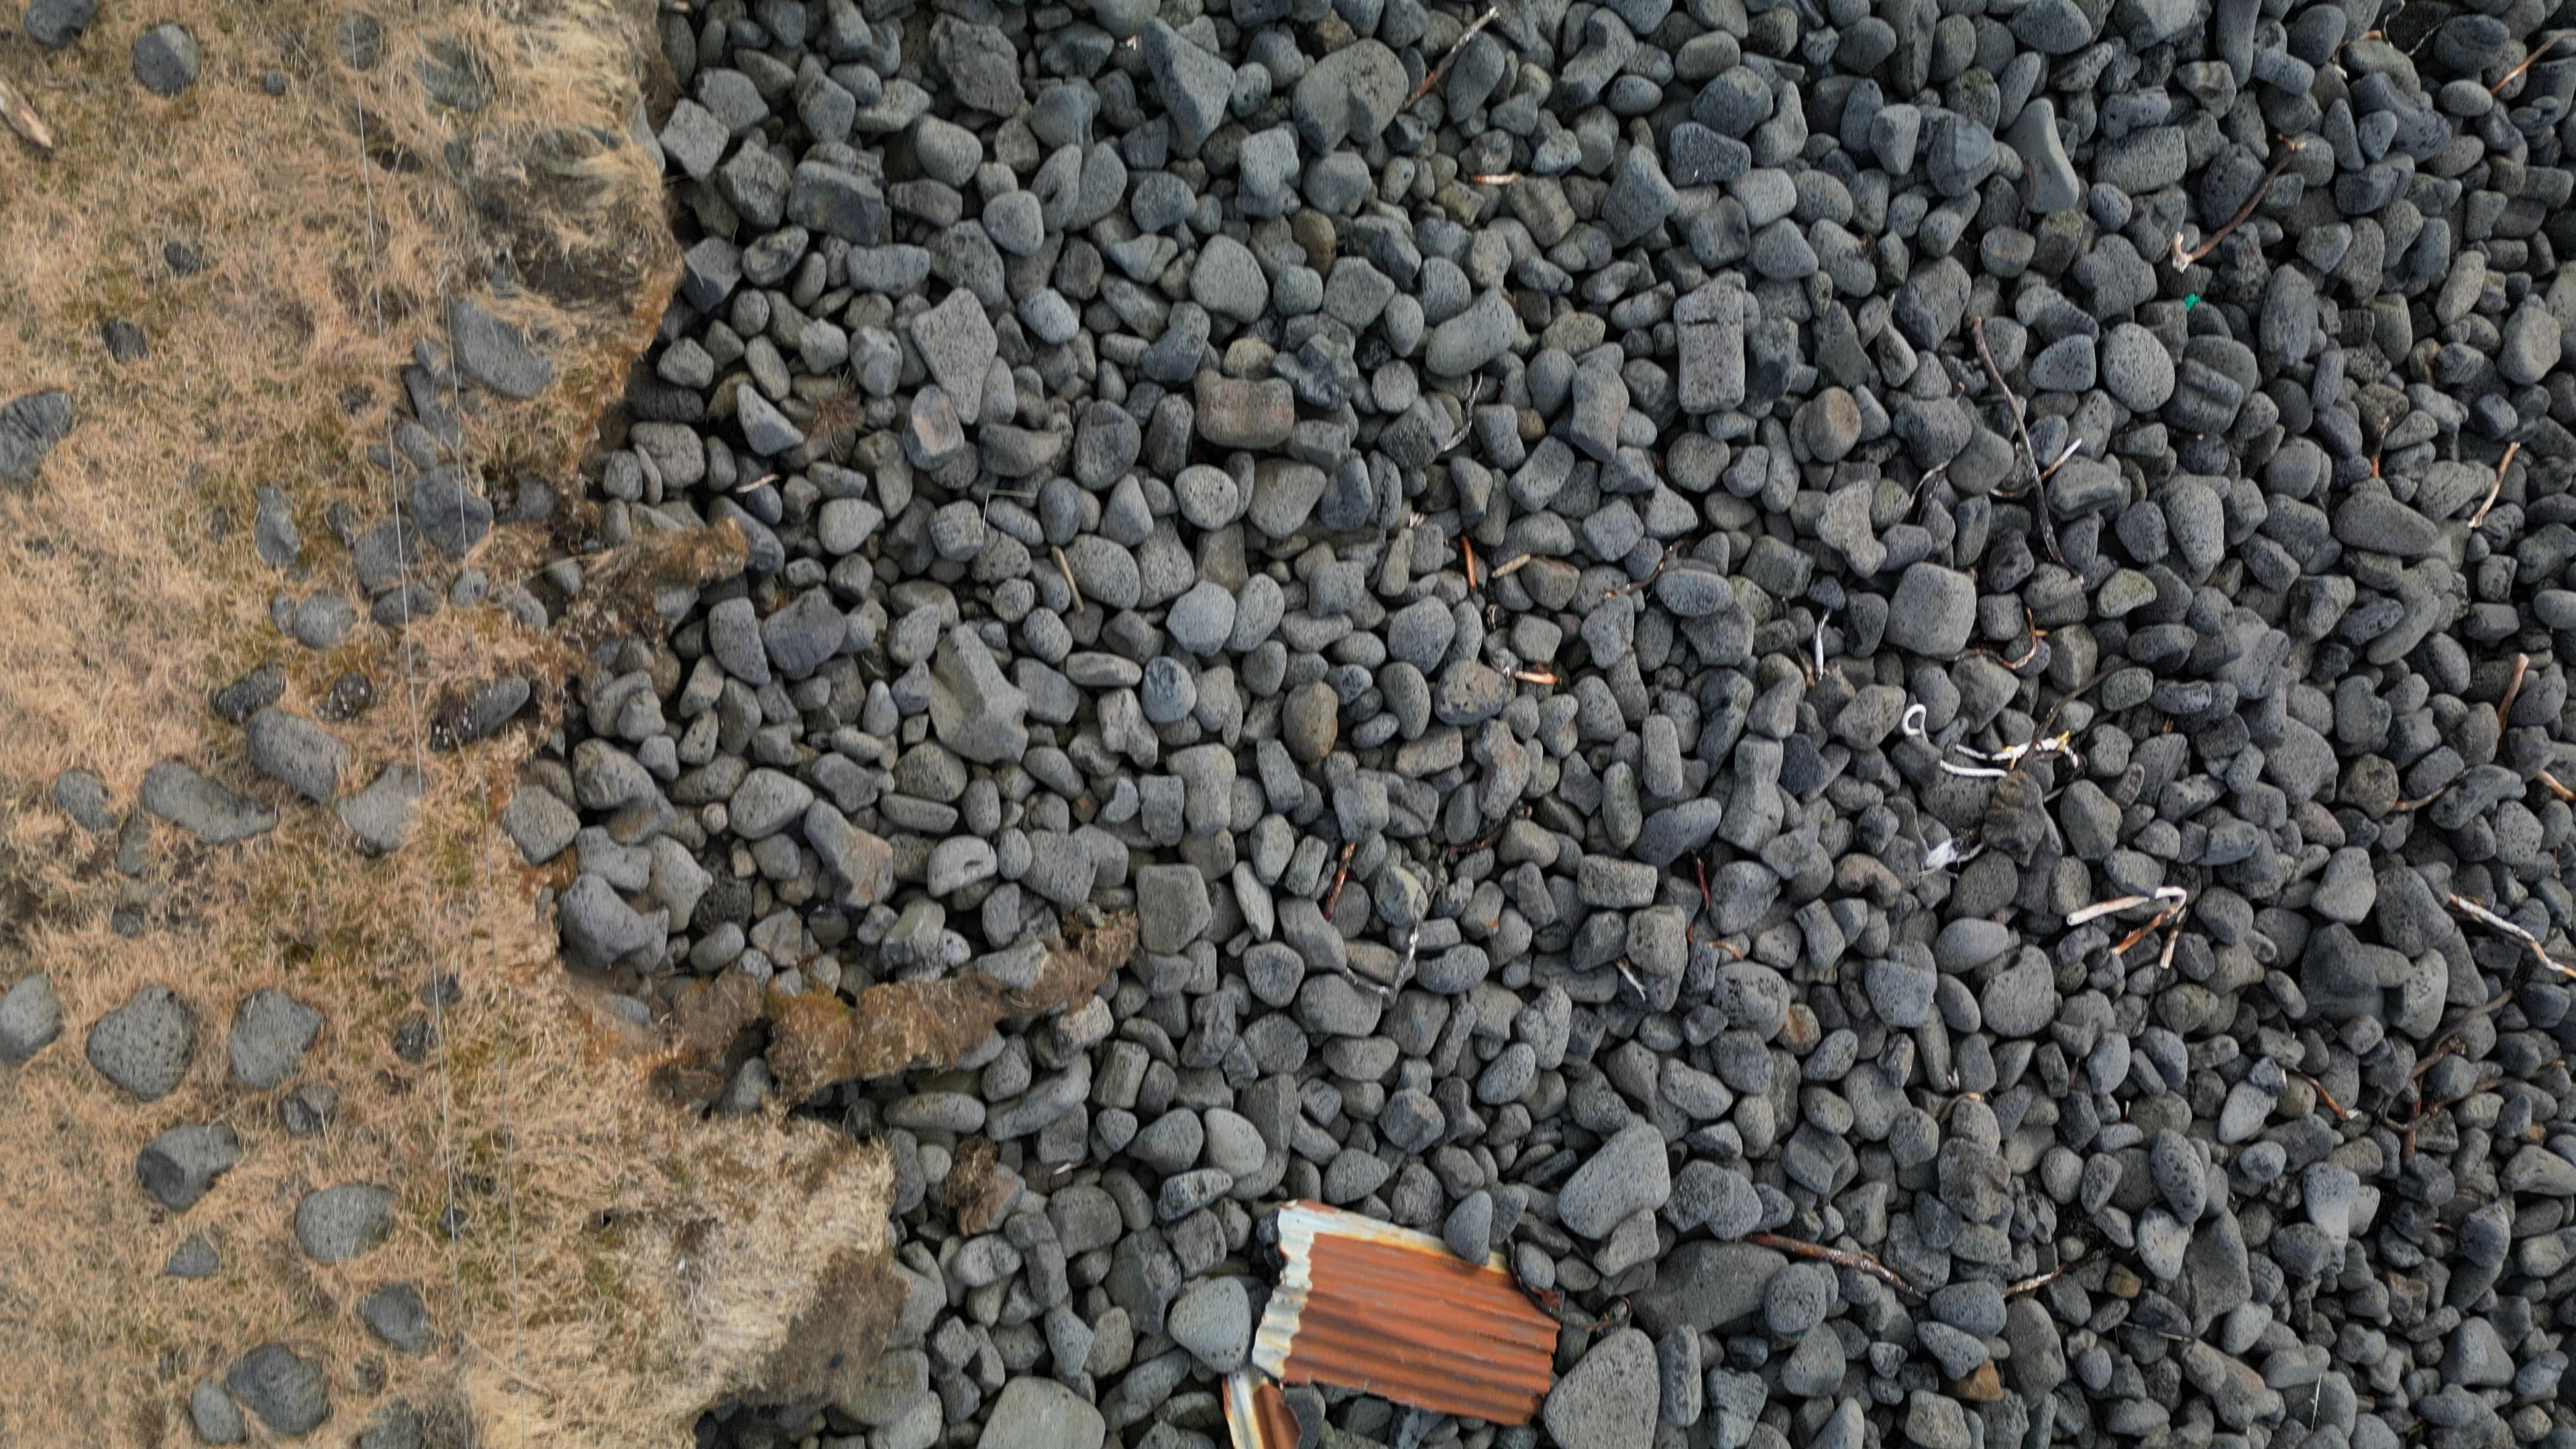trash: (1253, 1203, 1560, 1424), (1223, 1364, 1304, 1449), (1948, 734, 2082, 775), (1902, 704, 1927, 745)
